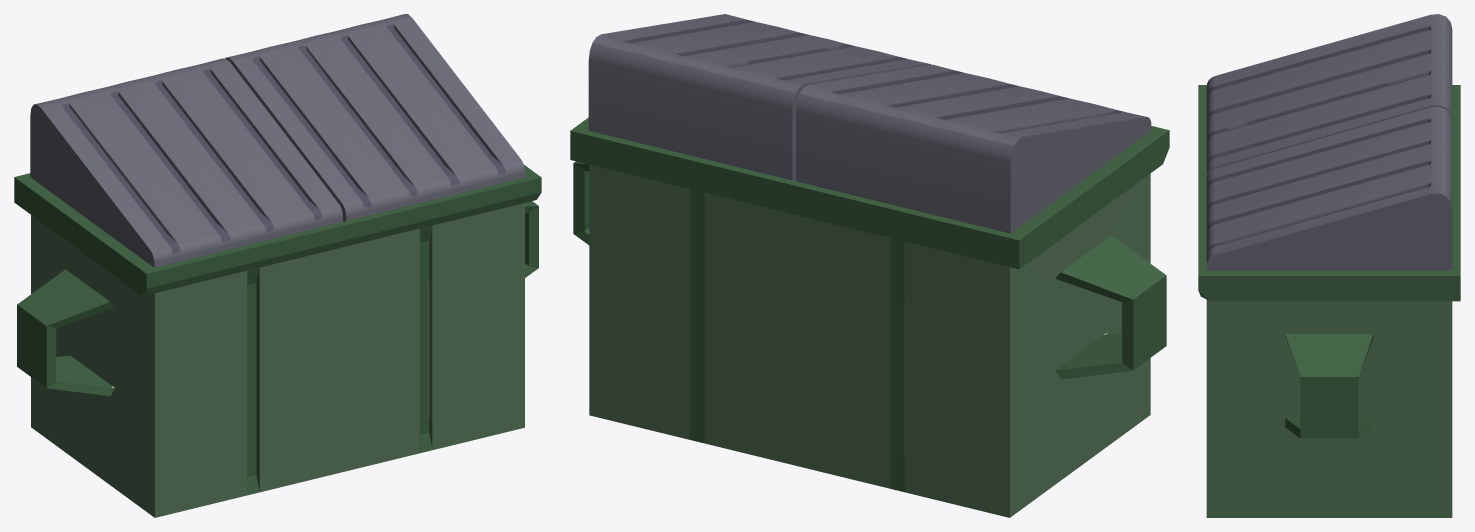
File: Dumpster.fbx
The picture shows the model from 3 angles, left to right: view 1: azimuth 30°, elevation 25°; view 2: azimuth 150°, elevation 25°; view 3: azimuth 270°, elevation 25°; orthographic projection. The views are drawn at different scales.
Parts seen in each view (by area): view 1: Dumpster, Lid.L, Lid.R; view 2: Dumpster, Lid.L, Lid.R; view 3: Dumpster, Lid.R, Lid.L.
Part boxes in pixels (bbox=[...]): Dumpster: bbox=[14, 165, 541, 517]; Lid.L: bbox=[30, 58, 342, 267]; Lid.R: bbox=[225, 14, 525, 221]; Dumpster: bbox=[570, 117, 1169, 517]; Lid.L: bbox=[796, 64, 1151, 233]; Lid.R: bbox=[588, 14, 930, 181]; Dumpster: bbox=[1198, 85, 1460, 517]; Lid.R: bbox=[1206, 106, 1452, 270]; Lid.L: bbox=[1206, 14, 1452, 177].
Bounding box in the file's own units: 240 × 153 × 112.
